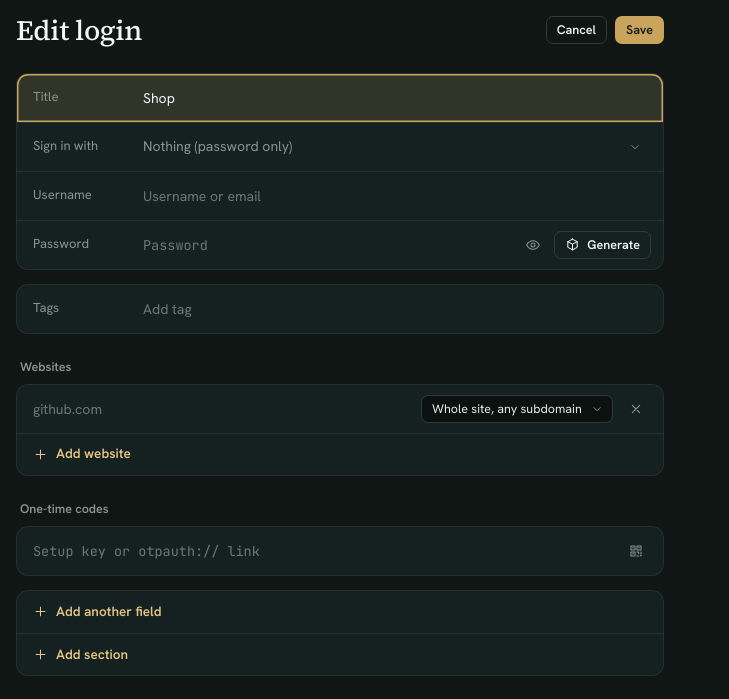
Editor files › a_failed_pick_is_a_toast_not_a_form_error
Click the button "Add another field": coordinates (109, 611) top-left (17, 591), bottom-right (663, 633)
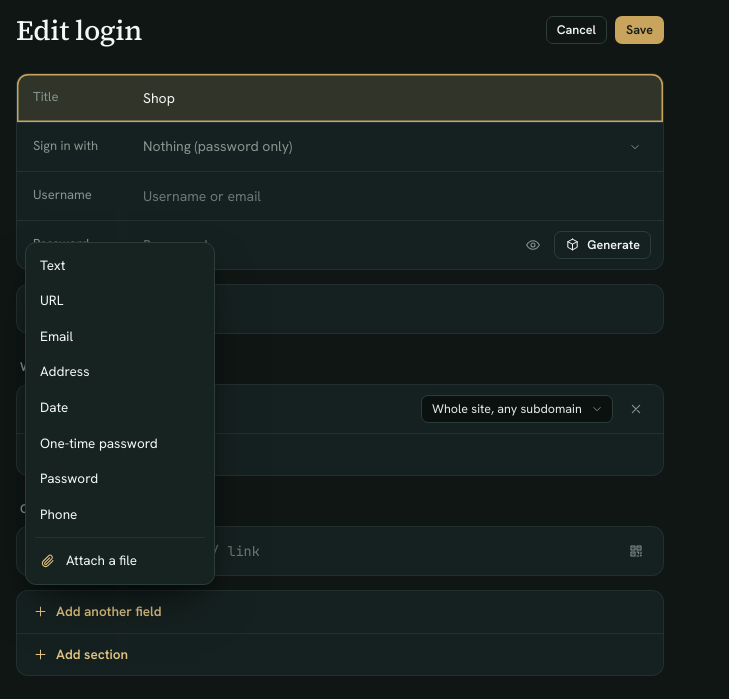
Click the menu item "Attach a file": coordinates (120, 561) top-left (31, 543), bottom-right (209, 579)
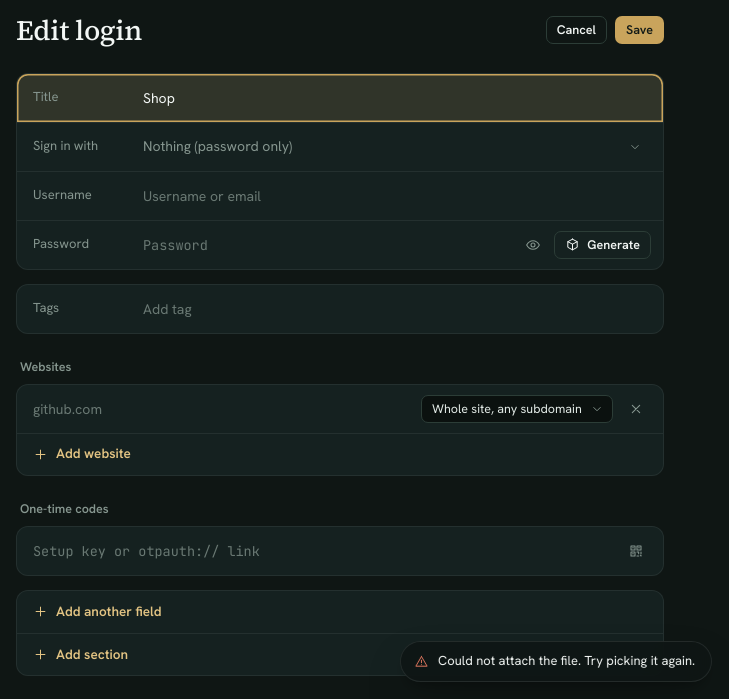
Result: the element with class "toast-error" reads "Could not attach the file. Try picking it again." at top-left (438, 652), bottom-right (695, 669)
